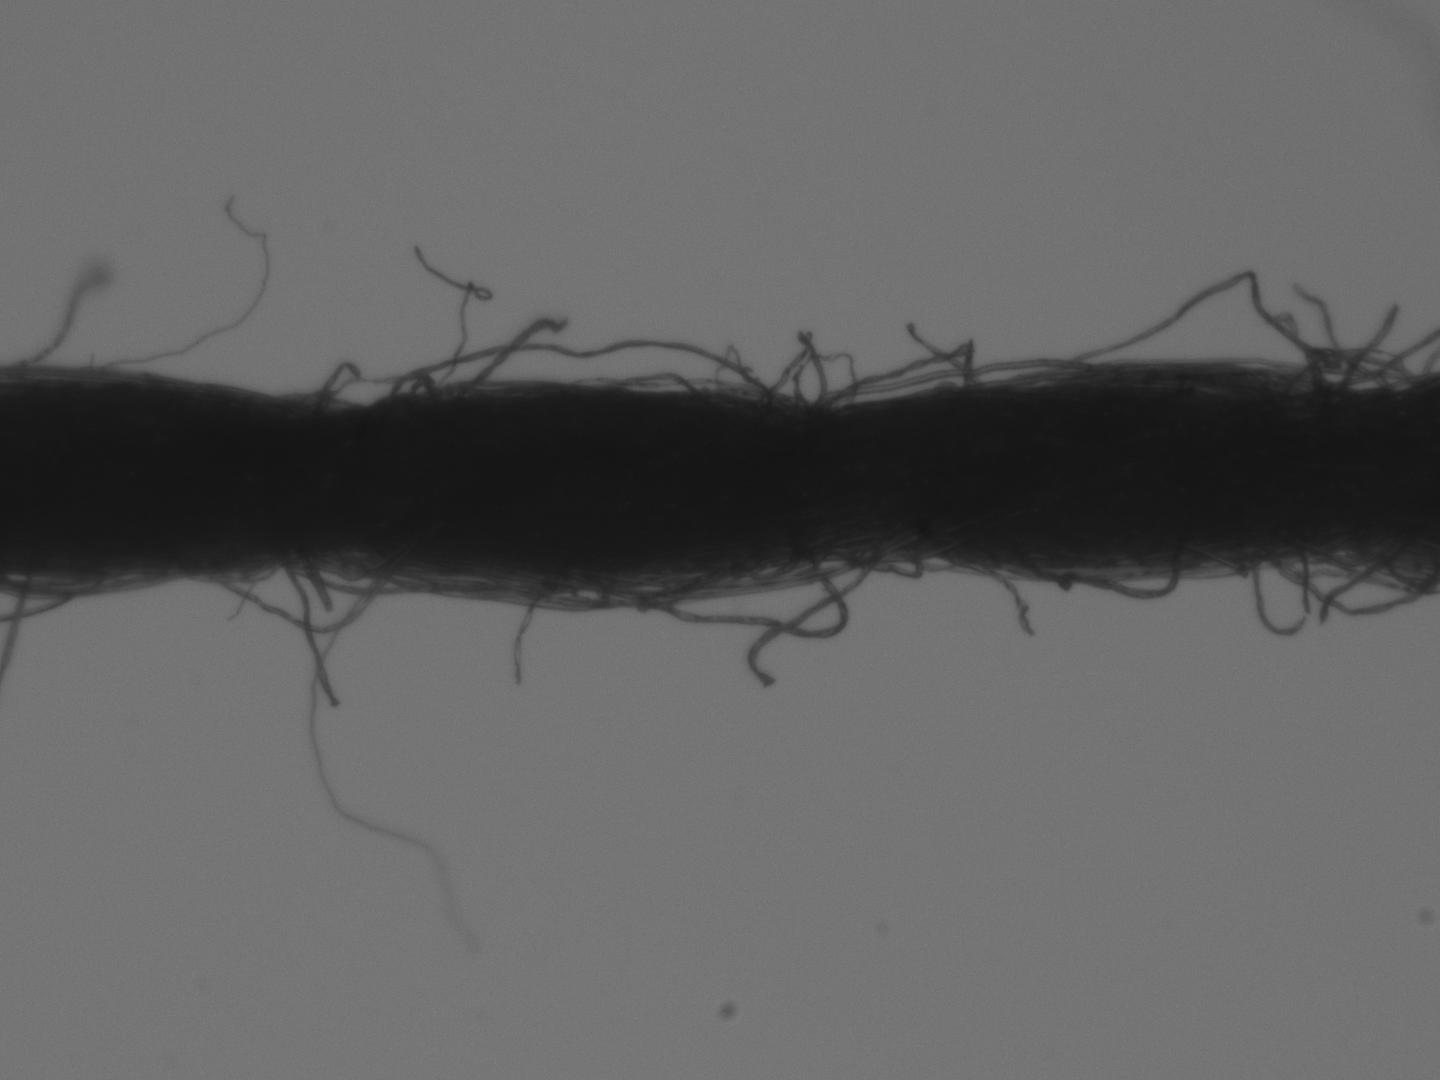loop_fiber: (1025, 271, 1327, 386), (393, 337, 770, 398), (610, 557, 841, 636), (214, 554, 389, 633), (813, 345, 974, 413), (1280, 557, 1426, 619), (1019, 559, 1181, 598), (1246, 550, 1314, 633), (1301, 347, 1412, 391), (791, 353, 857, 399), (608, 369, 701, 396), (382, 371, 437, 395)
protruding_fiber: (744, 552, 873, 692), (282, 556, 338, 709), (467, 317, 564, 389), (1339, 301, 1399, 389), (1320, 558, 1390, 627), (514, 589, 545, 685), (316, 360, 366, 405)
